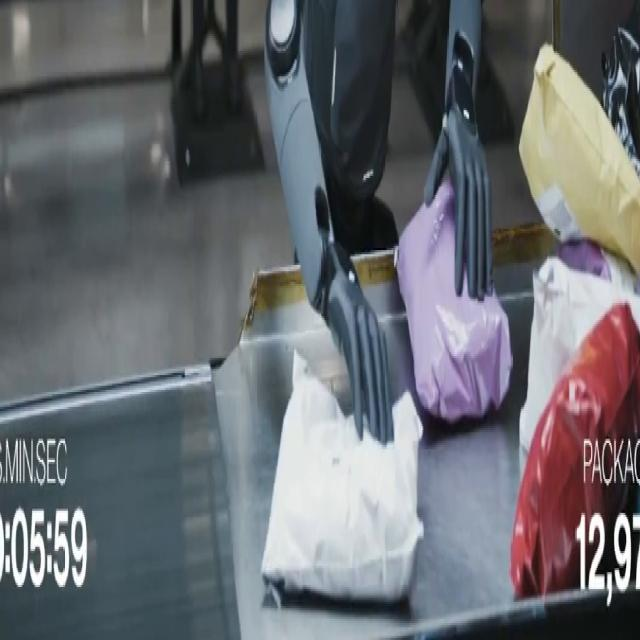package: (262, 352, 423, 603), (511, 304, 639, 597), (396, 181, 512, 423), (519, 45, 639, 273), (520, 259, 639, 451), (602, 28, 639, 175), (558, 240, 636, 292)
